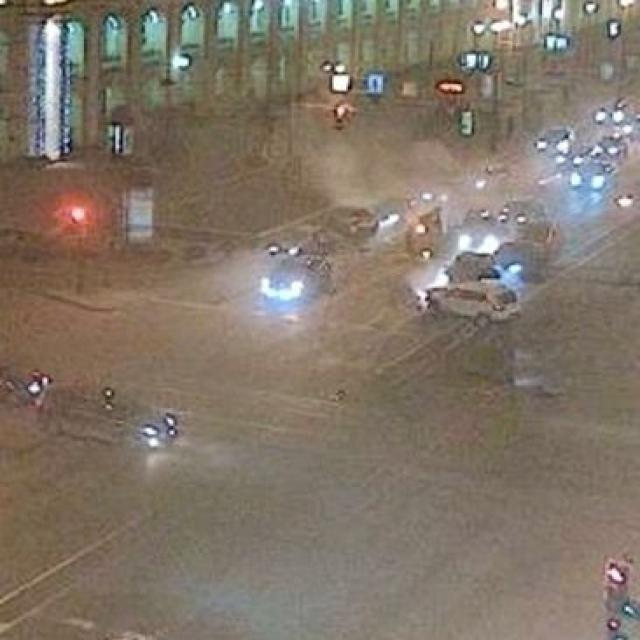traffic_incident: (413, 234, 526, 337)
